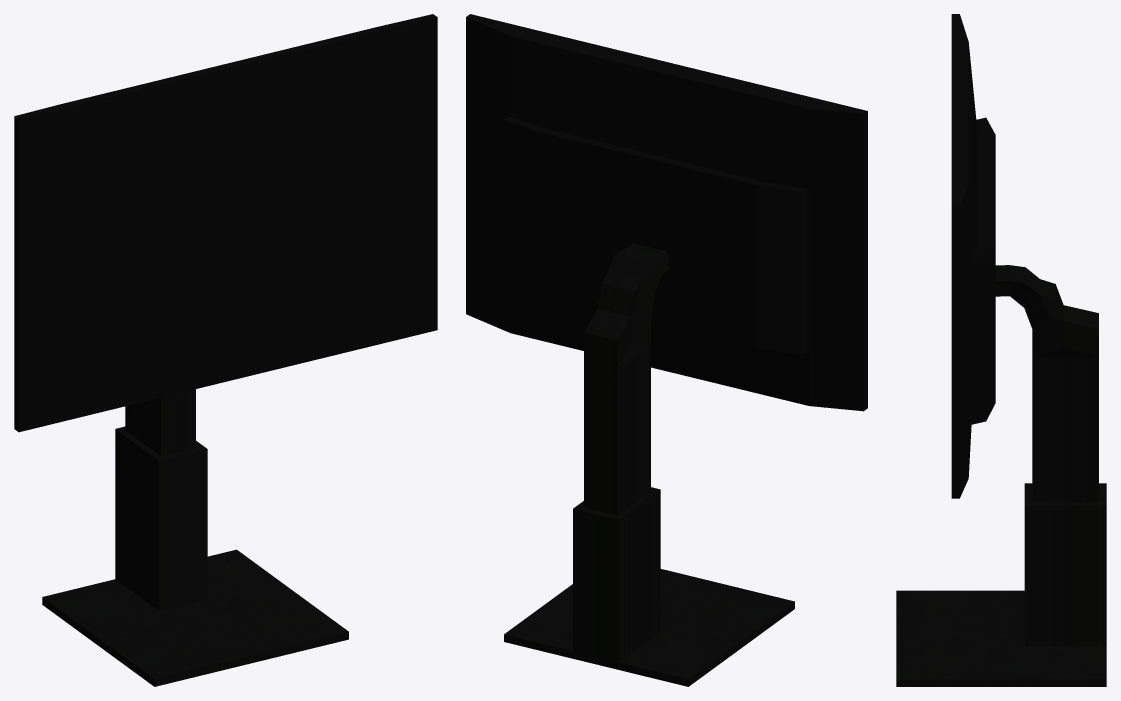
File: computer_screen.fbx
3 renders of one model, left to right at view 1: azimuth 30°, elevation 25°; view 2: azimuth 150°, elevation 25°; view 3: azimuth 270°, elevation 25°, orthographic. The views are drawn at different scales.
Visible parts, largest first — view 1: Cube.024, Cube.025; view 2: Cube.024, Cube.025; view 3: Cube.025, Cube.024.
Boxes of the visible parts, <box> form: Cube.024: <box>14,14,437,432</box>; Cube.025: <box>42,389,348,686</box>; Cube.024: <box>466,14,867,411</box>; Cube.025: <box>504,243,794,686</box>; Cube.025: <box>896,265,1106,686</box>; Cube.024: <box>951,14,995,498</box>.
Bounding box in the file's own units: 560 × 731 × 260.
2 materials, 1 textured.
